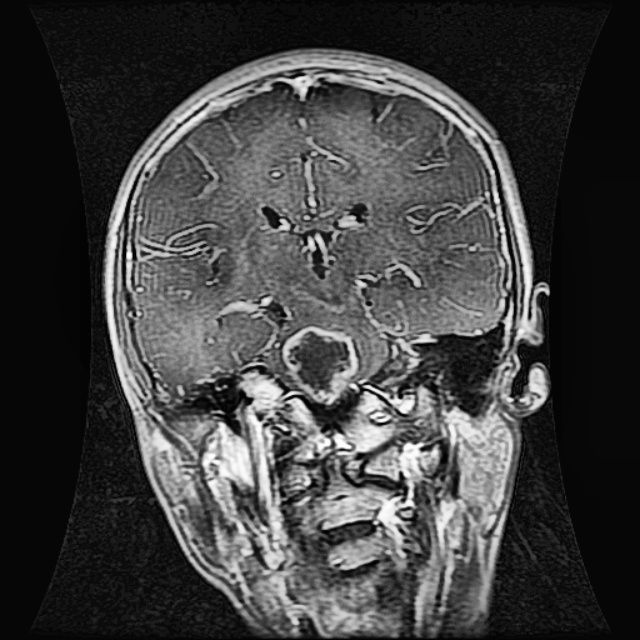Meningioma: (278, 322, 359, 403)
